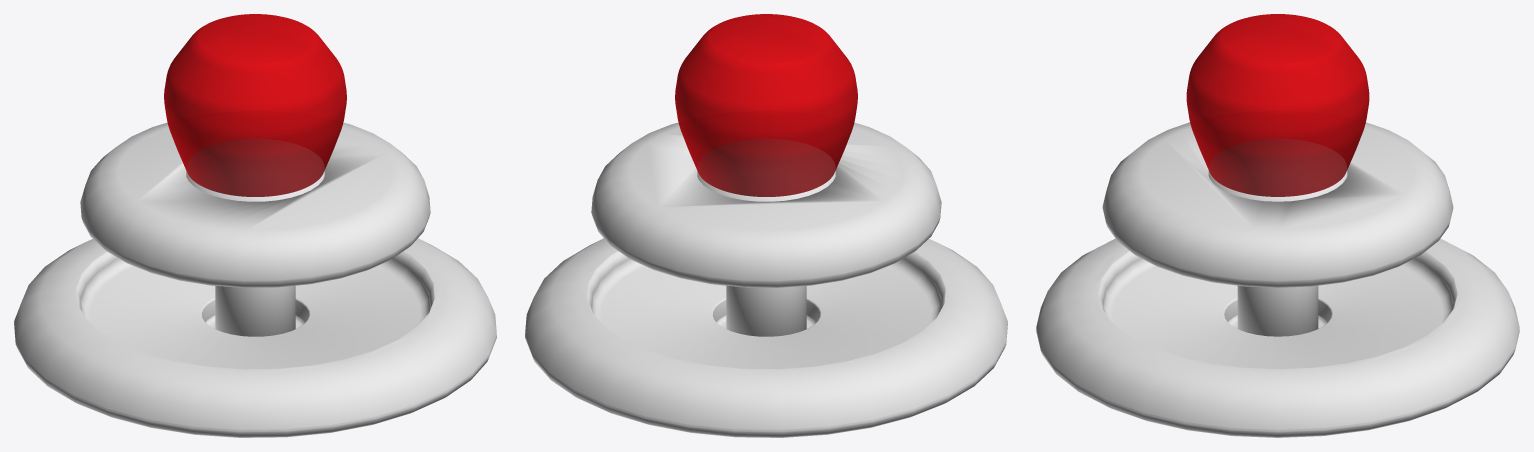
Rendered from BulbButton.fbx.
The picture shows the model from 3 angles, left to right: view 1: azimuth 30°, elevation 25°; view 2: azimuth 150°, elevation 25°; view 3: azimuth 270°, elevation 25°; orthographic projection.
Parts seen in each view (by area): view 1: HL, Cap, Base, Bulb, BulbBase, Cylinder; view 2: HL, Cap, Base, Bulb, BulbBase, Cylinder; view 3: HL, Cap, Base, Bulb, BulbBase, Cylinder.
Part boxes in pixels (x1=…): HL: x1=14, y1=238, x2=496, y2=429; Cap: x1=80, y1=122, x2=430, y2=287; Base: x1=14, y1=251, x2=496, y2=437; Bulb: x1=164, y1=14, x2=346, y2=196; BulbBase: x1=186, y1=139, x2=324, y2=201; Cylinder: x1=215, y1=285, x2=295, y2=336; HL: x1=525, y1=238, x2=1007, y2=429; Cap: x1=591, y1=122, x2=941, y2=287; Base: x1=525, y1=251, x2=1007, y2=437; Bulb: x1=675, y1=14, x2=857, y2=196; BulbBase: x1=697, y1=139, x2=835, y2=201; Cylinder: x1=726, y1=285, x2=806, y2=336; HL: x1=1036, y1=238, x2=1519, y2=429; Cap: x1=1102, y1=122, x2=1453, y2=287; Base: x1=1036, y1=250, x2=1519, y2=437; Bulb: x1=1186, y1=14, x2=1369, y2=196; BulbBase: x1=1208, y1=139, x2=1347, y2=201; Cylinder: x1=1237, y1=285, x2=1318, y2=336.
Bounding box in the file's own units: 276 × 194 × 276.
